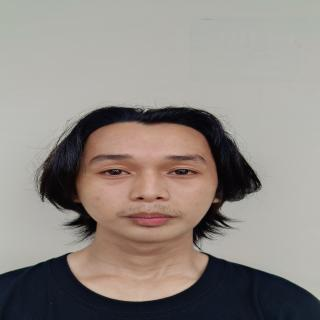Netral: (71, 120, 226, 248)
